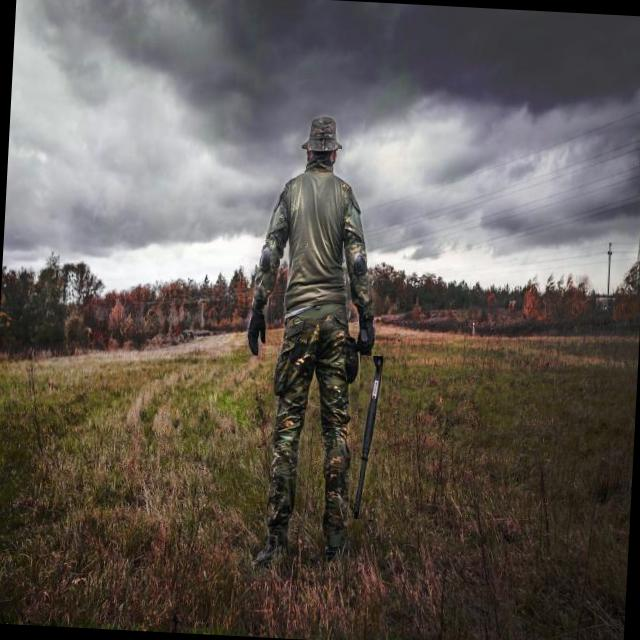Gun: (353, 357, 383, 519)
